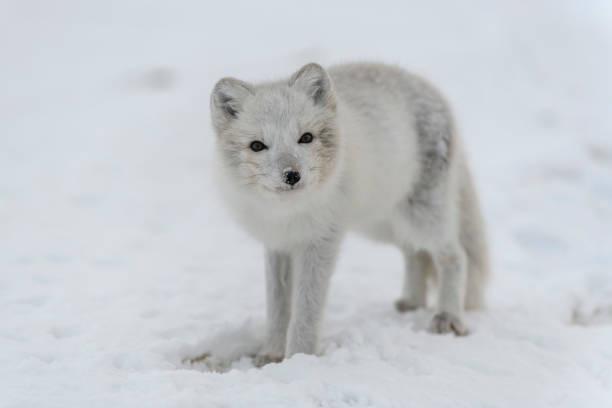arcticfox: (235, 87, 333, 224)
